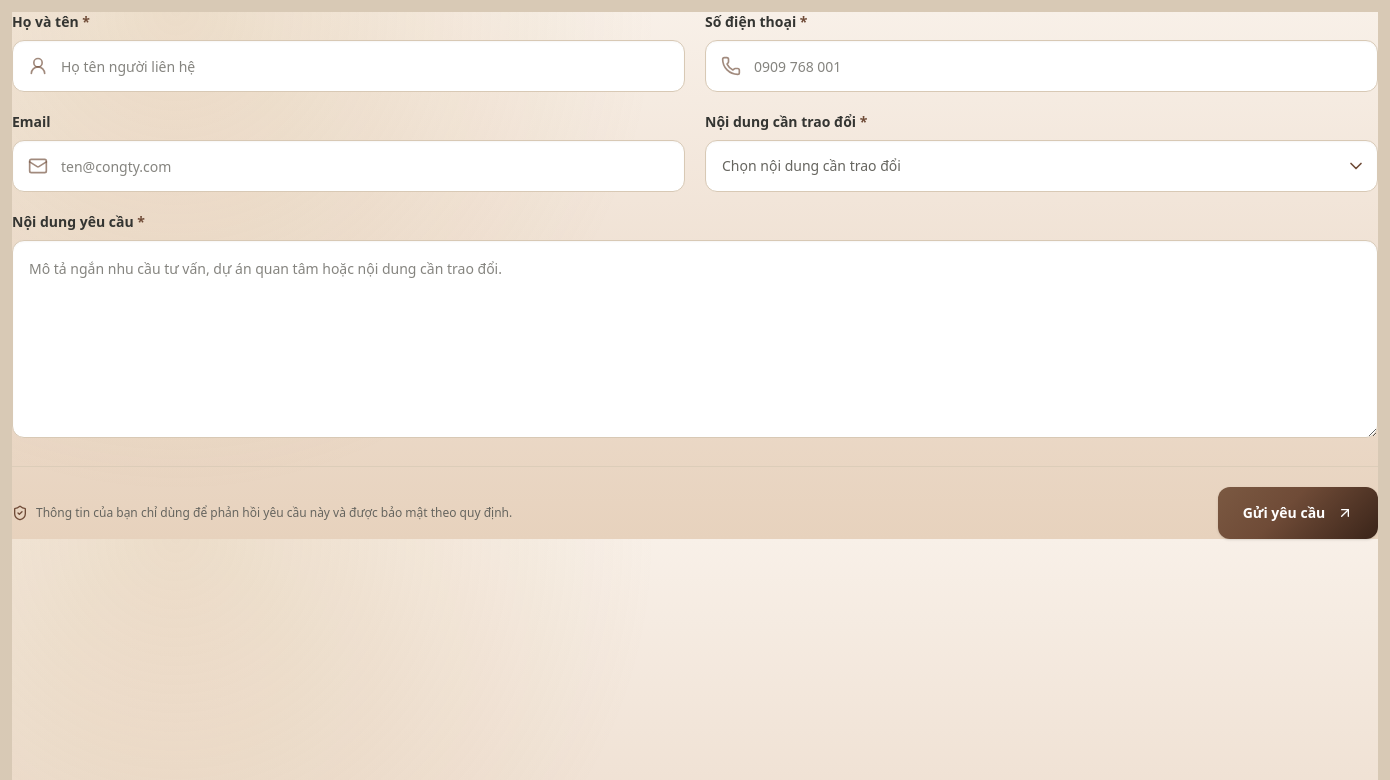
Scenario: ContactForm › API trả TOO_MANY_REQUESTS → hiện thông báo rate-limit, form giữ nguyên
Type "Nguyễn Văn A" into the field labelled "Họ và tên *".
click(348, 66); type("Nguyễn Văn A")  # box [12, 40, 685, 92]
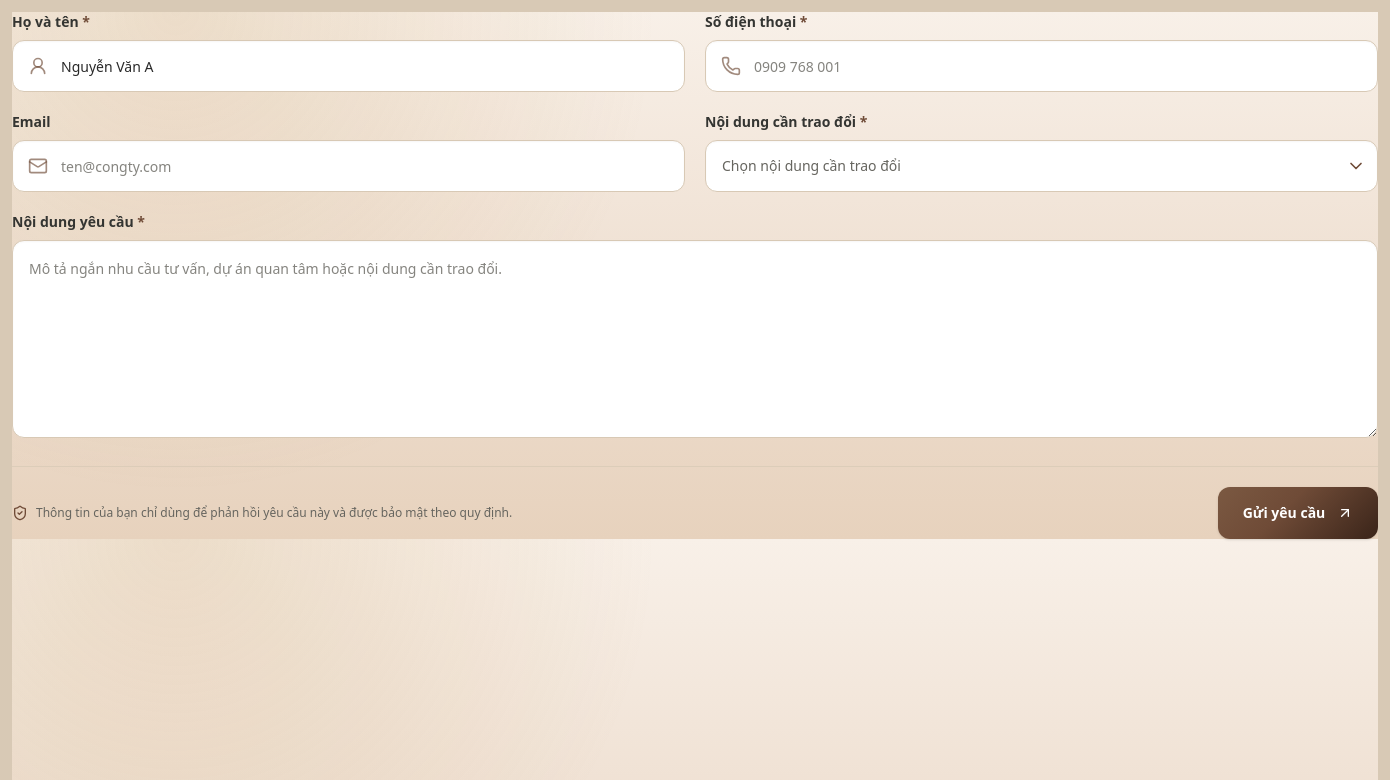
Type "0901 234 567" into the field labelled "Số điện thoại *".
click(1042, 66); type("0901 234 567")  # box [705, 40, 1378, 92]
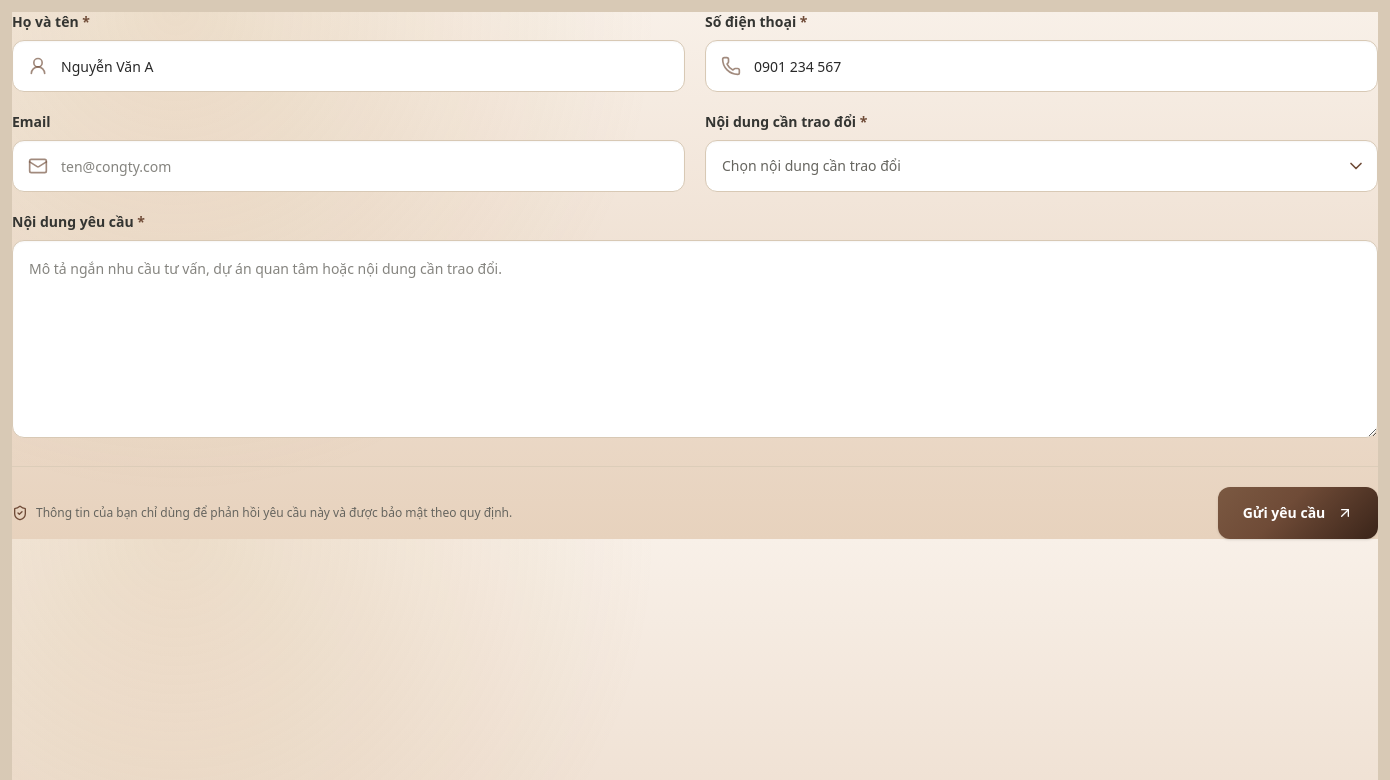
Select "Tư vấn dự án" in the dropdown labelled "Nội dung cần trao đổi *" at (1042, 166), box [705, 140, 1378, 192]
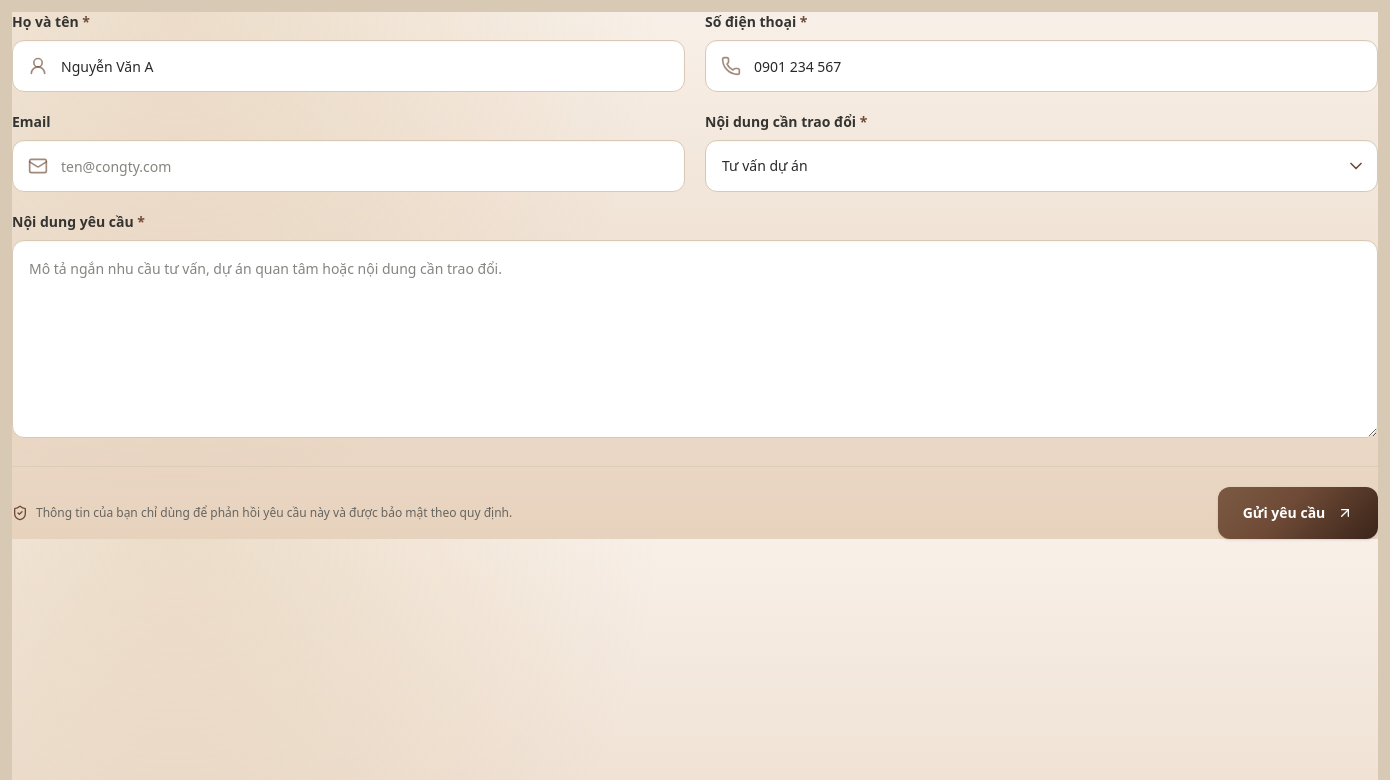
Replace the text in the text box labelled "Nội dung yêu cầu *" with "Tôi muốn được tư vấn về dự án Hưng Phú." at (695, 339), box [12, 240, 1378, 438]
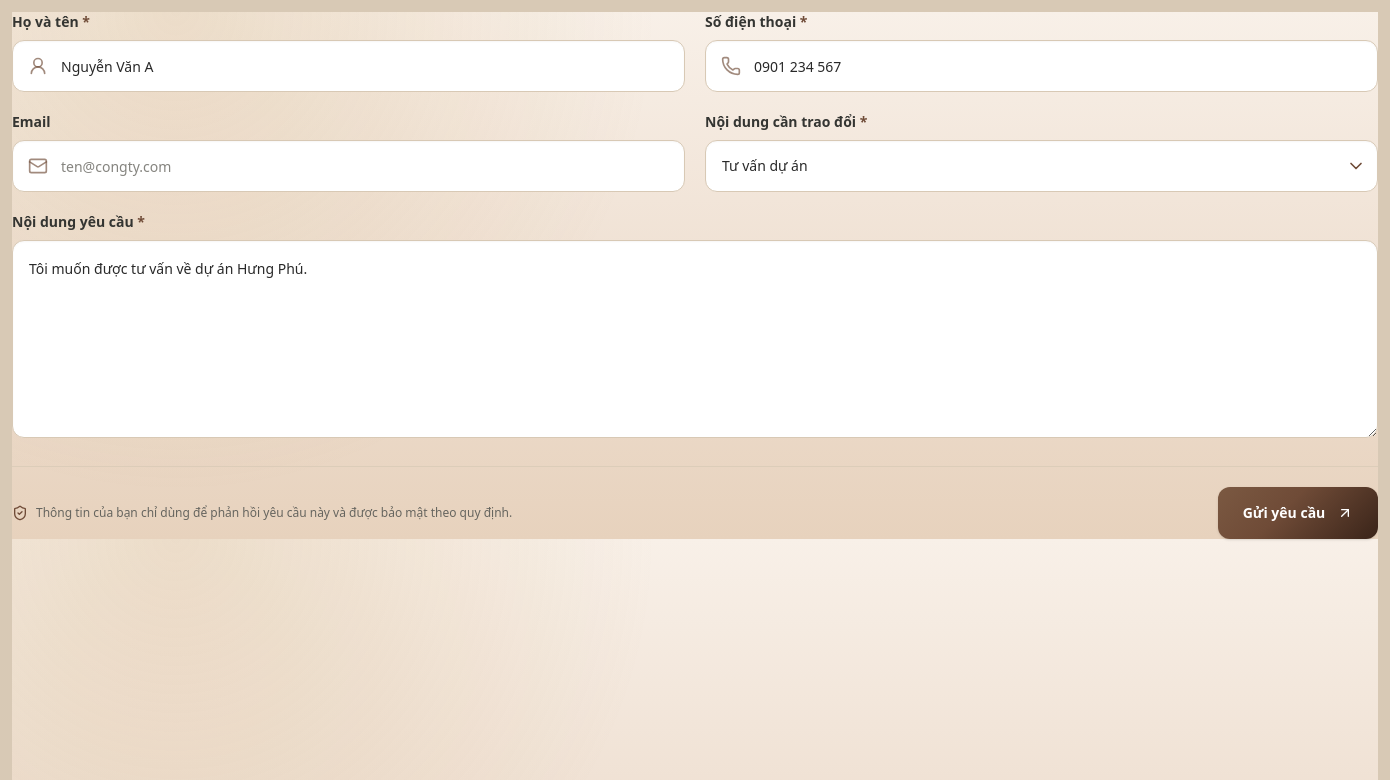
Click the button "Gửi yêu cầu".
click(1298, 513)  # box [1218, 487, 1378, 539]
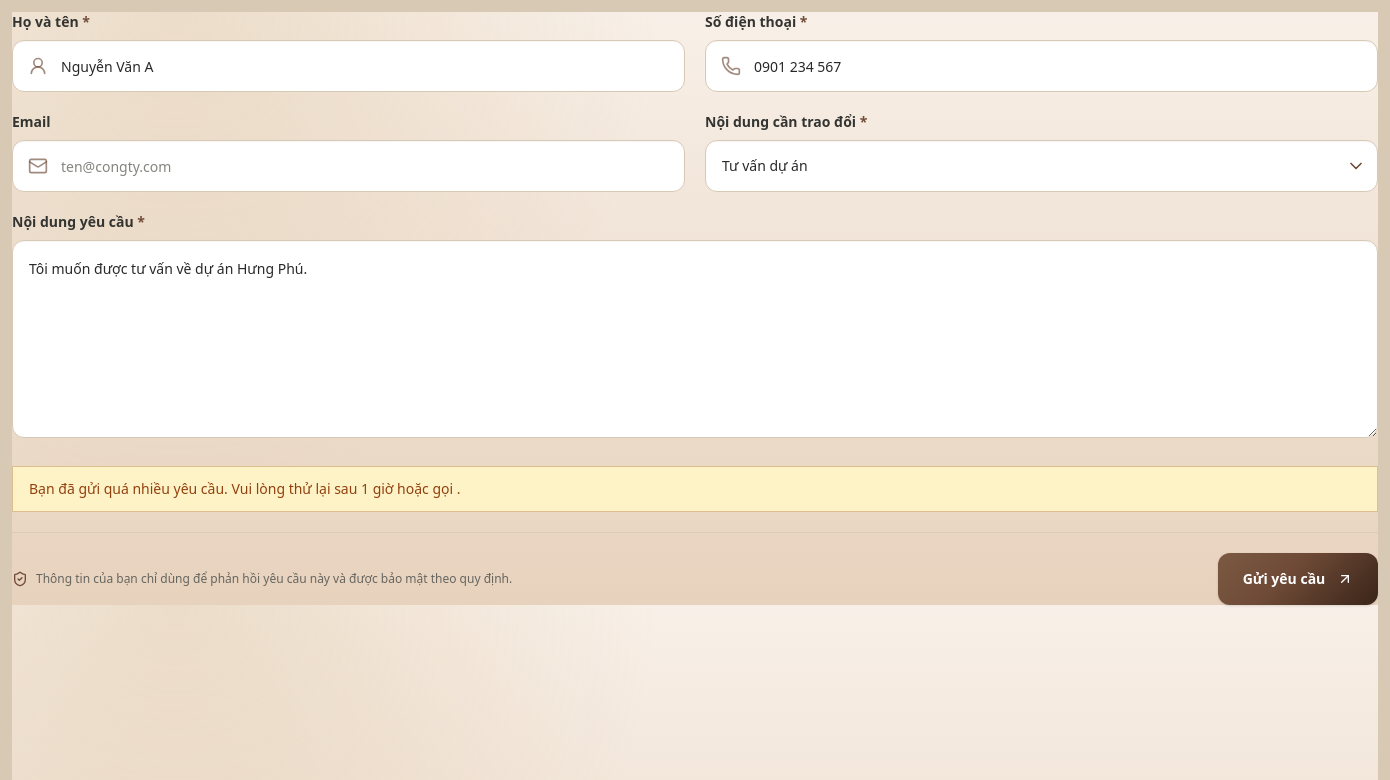
Expected: the message shows "gửi quá nhiều yêu cầu", [29, 479, 460, 498]
